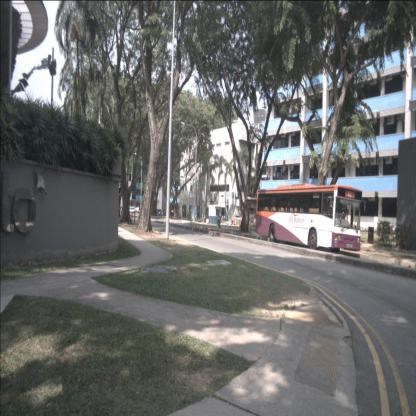vehicle-bus-rigid: (256, 184, 362, 253)
vehicle-car: (160, 209, 169, 217), (134, 207, 141, 215), (155, 209, 162, 216)
